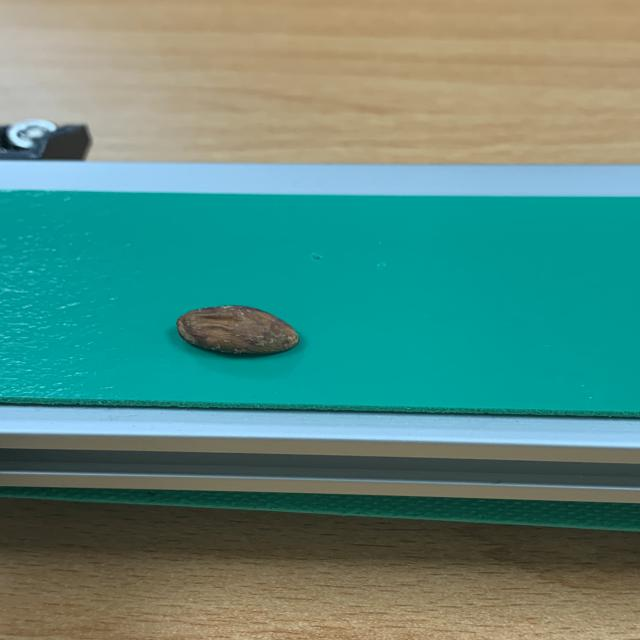Flat_cocoabeans: (79, 274, 376, 393)
